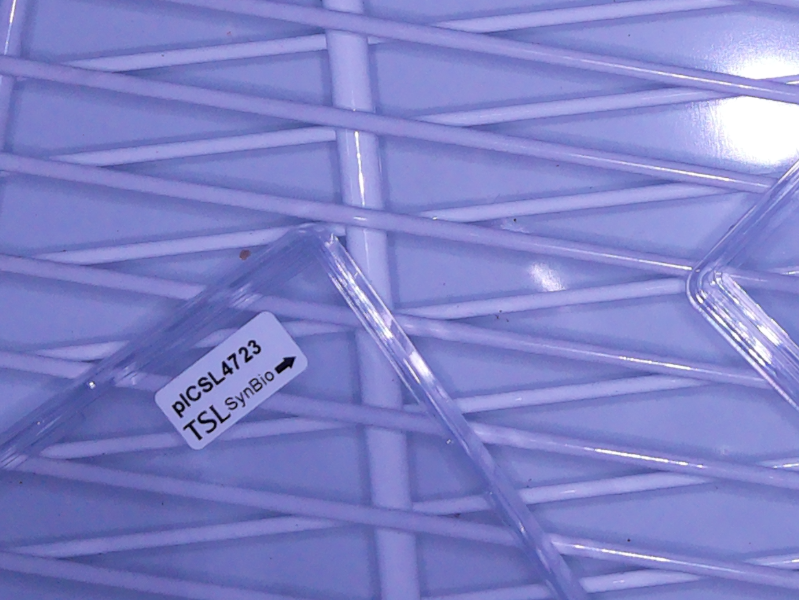plate: (1, 221, 593, 600), (685, 157, 799, 413)
